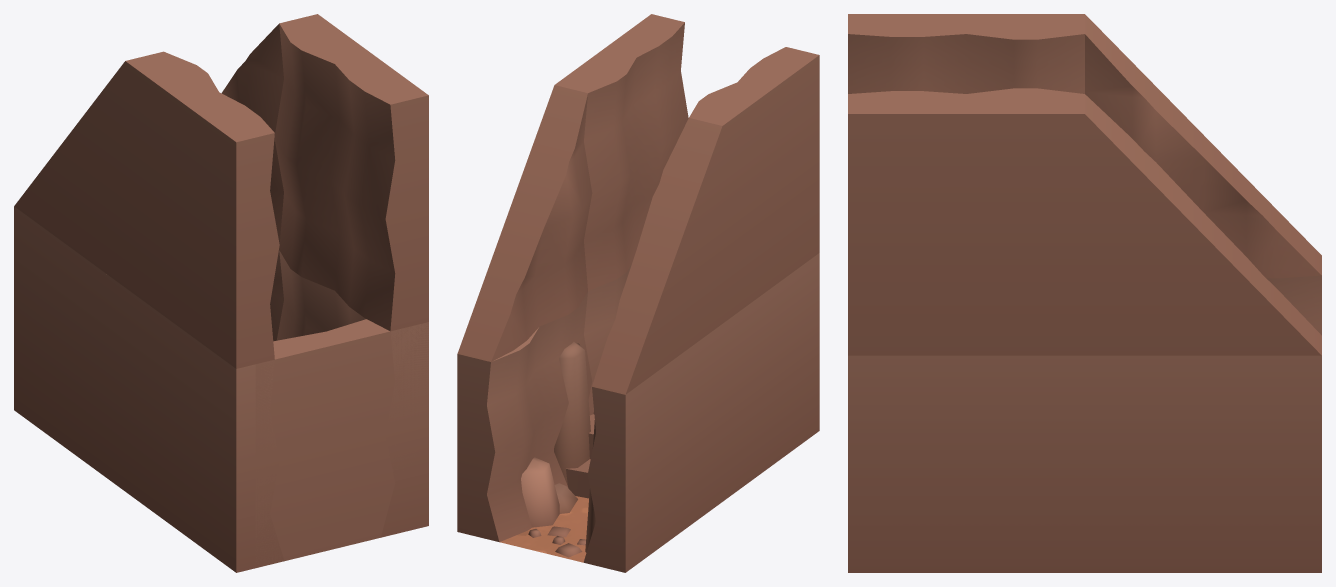
The model's file is stairs.obj.
3 renders of one model, left to right at view 1: azimuth 30°, elevation 25°; view 2: azimuth 150°, elevation 25°; view 3: azimuth 270°, elevation 25°, orthographic. The views are drawn at different scales.
Visible parts, largest first — view 1: stairs; view 2: stairs; view 3: stairs.
Boxes of the visible parts, x1,y1,x2,y2 form: stairs: (14,14,428,572); stairs: (457,14,819,572); stairs: (848,14,1321,572).
Size of the model in its own units: 4 by 8.55 by 8.
Materials: 1 (1 with a texture image).
